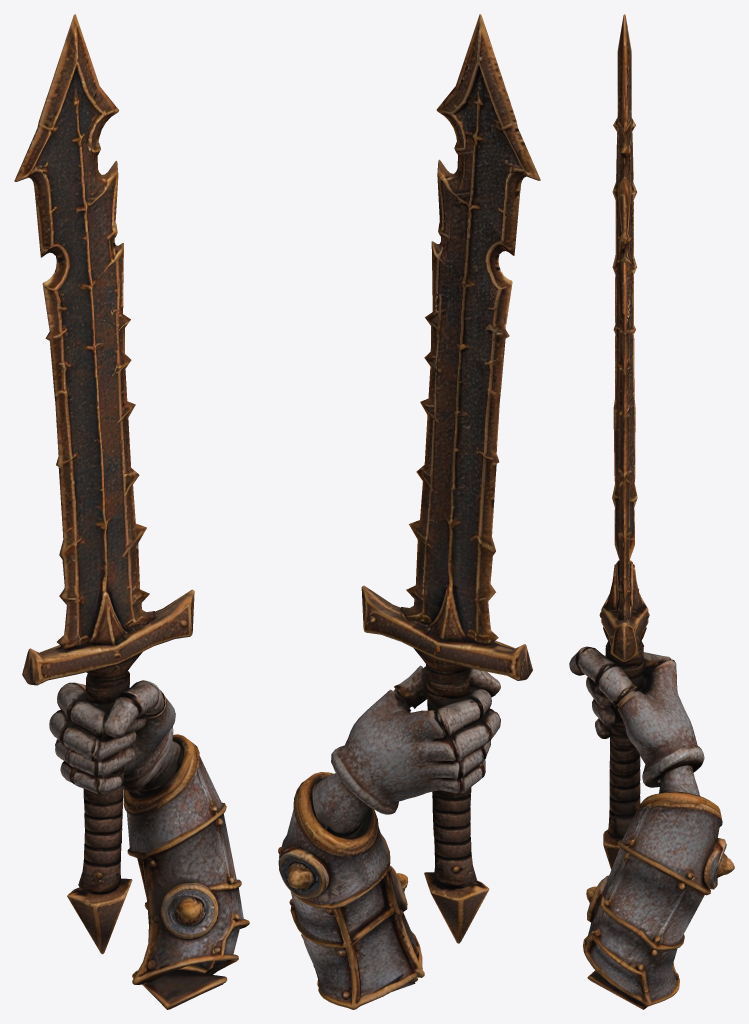
File: skeletonlord_hand_r.glb
The picture shows the model from 3 angles, left to right: view 1: azimuth 30°, elevation 25°; view 2: azimuth 150°, elevation 25°; view 3: azimuth 270°, elevation 25°; orthographic projection. The views are drawn at different scales.
Visible parts, largest first — view 1: tripo_node_11b7d164-f51b-466f-9479-3f3457703040; view 2: tripo_node_11b7d164-f51b-466f-9479-3f3457703040; view 3: tripo_node_11b7d164-f51b-466f-9479-3f3457703040.
Boxes of the visible parts, box(x1,y1,x2,y2) form: tripo_node_11b7d164-f51b-466f-9479-3f3457703040: box(14, 14, 249, 1009); tripo_node_11b7d164-f51b-466f-9479-3f3457703040: box(278, 14, 540, 1009); tripo_node_11b7d164-f51b-466f-9479-3f3457703040: box(569, 14, 734, 1009).
Bounding box in the file's own units: 0.2427 × 0.9995 × 0.1606.
1 material, 1 textured.
